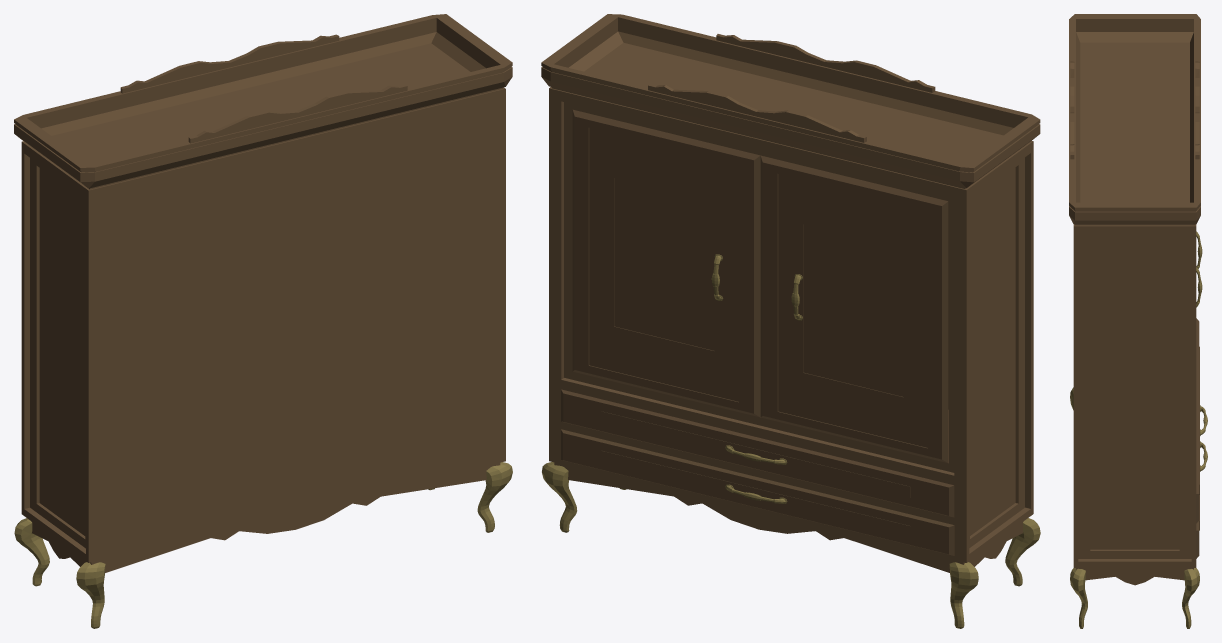
Rendered from wardrobe-nord.glb.
The picture shows the model from 3 angles, left to right: view 1: azimuth 30°, elevation 25°; view 2: azimuth 150°, elevation 25°; view 3: azimuth 270°, elevation 25°; orthographic projection. The views are drawn at different scales.
Parts seen in each view (by area): view 1: ShortCloset; view 2: ShortCloset, ShortCloset_LeftDoor, ShortCloset_RightDoor, ShortCloset_TopDrawer, ShortCloset_BottomDrawer; view 3: ShortCloset, ShortCloset_TopDrawer, ShortCloset_BottomDrawer.
Boxes of the visible parts, left/top/right/bottom form: ShortCloset: left=14, top=14, right=512, bottom=628; ShortCloset: left=541, top=14, right=1040, bottom=628; ShortCloset_LeftDoor: left=572, top=109, right=760, bottom=417; ShortCloset_RightDoor: left=760, top=155, right=948, bottom=462; ShortCloset_TopDrawer: left=561, top=389, right=954, bottom=517; ShortCloset_BottomDrawer: left=561, top=429, right=954, bottom=555; ShortCloset: left=1069, top=14, right=1200, bottom=628; ShortCloset_TopDrawer: left=1196, top=318, right=1207, bottom=523; ShortCloset_BottomDrawer: left=1196, top=441, right=1207, bottom=558.
Size of the model in its own units: 2 by 2.1 by 0.6.
